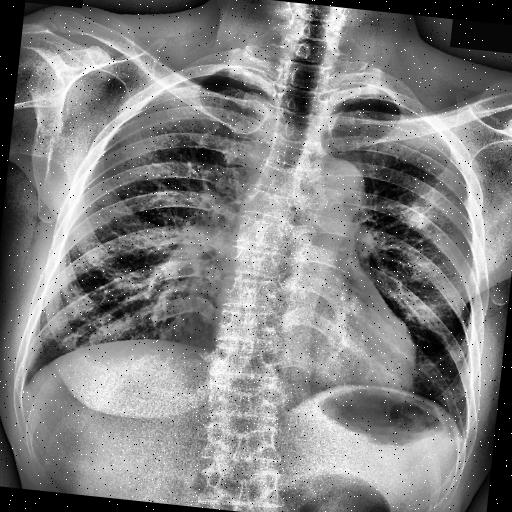0- Aortic enlargement: (290, 153, 370, 226), (294, 158, 366, 220)
7- Lung Opacity: (400, 204, 437, 232)
8- Nodule-Mass: (400, 201, 438, 232)
